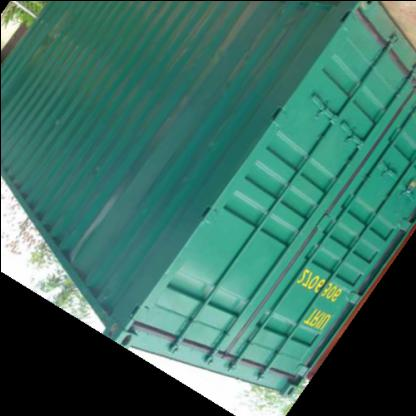Damage: (163, 1, 291, 103), (64, 186, 113, 270), (31, 12, 99, 62)
